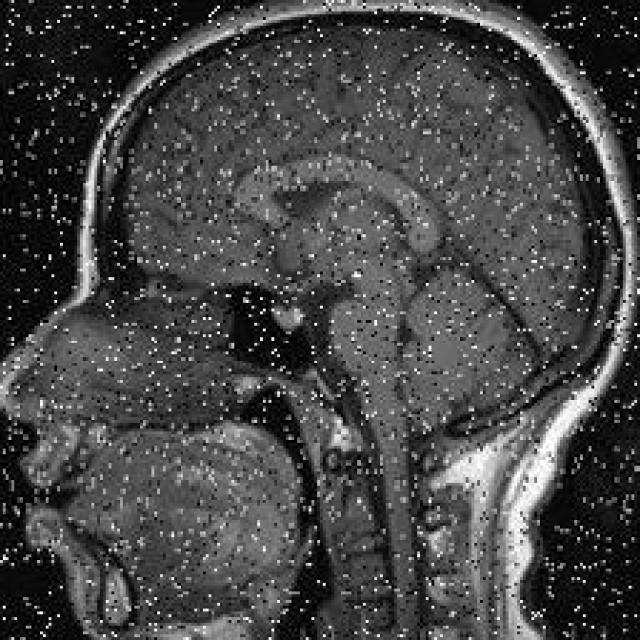no_tumor: (74, 1, 640, 499)
